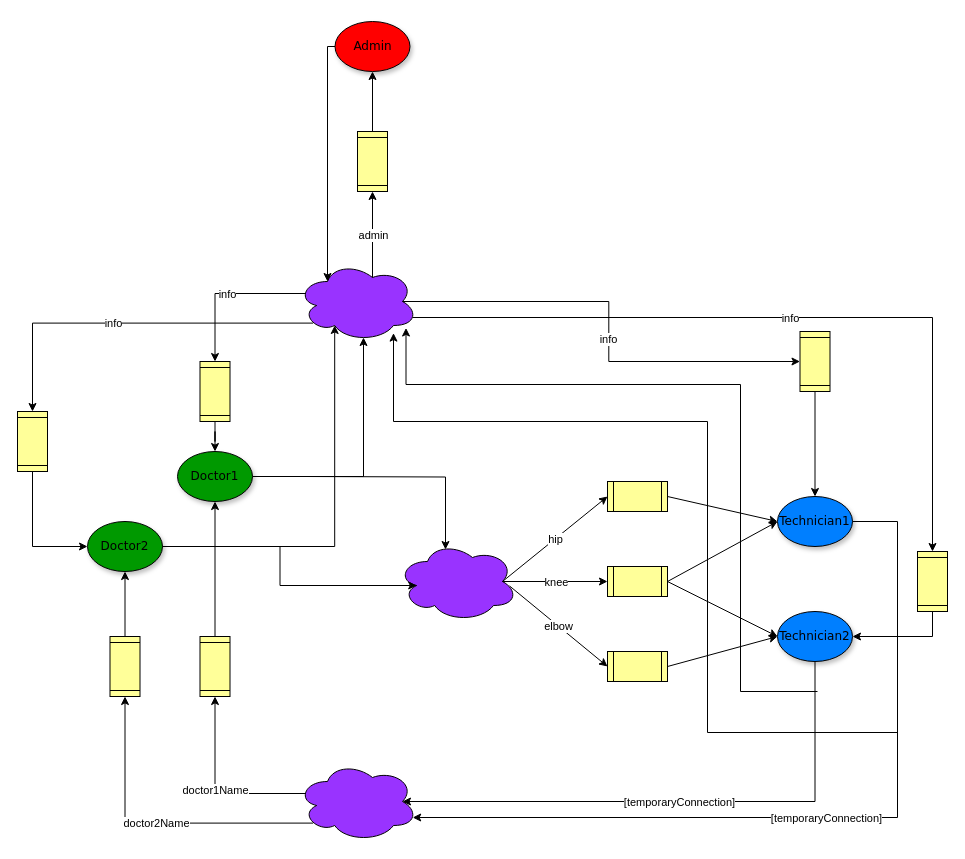
The diagram is 965 pixels wide and 859 high, and some of its shapes have lost their labels. The centre of each missing label's shape, as x and y in pixels:
admin DIRECT EXCHANGE: the point at 357,301
examination DIRECT EXCHANGE: the point at 457,581
results DIRECT EXCHANGE: the point at 357,801
